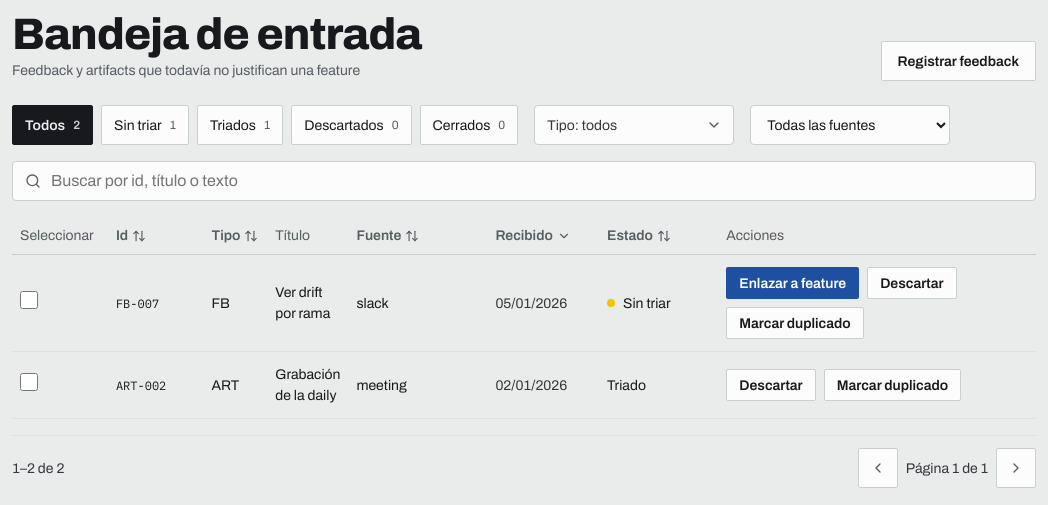
it: Entrada › searches id, título and body, accent-insensitively, and writes q to the URL
Expected: the text "FB-007" is shown, [116,296,159,310]
Step 1. Type "grabacion" into the search field named "Buscar en la bandeja" → {"x": 538, "y": 181}, box [49,168,1027,194]
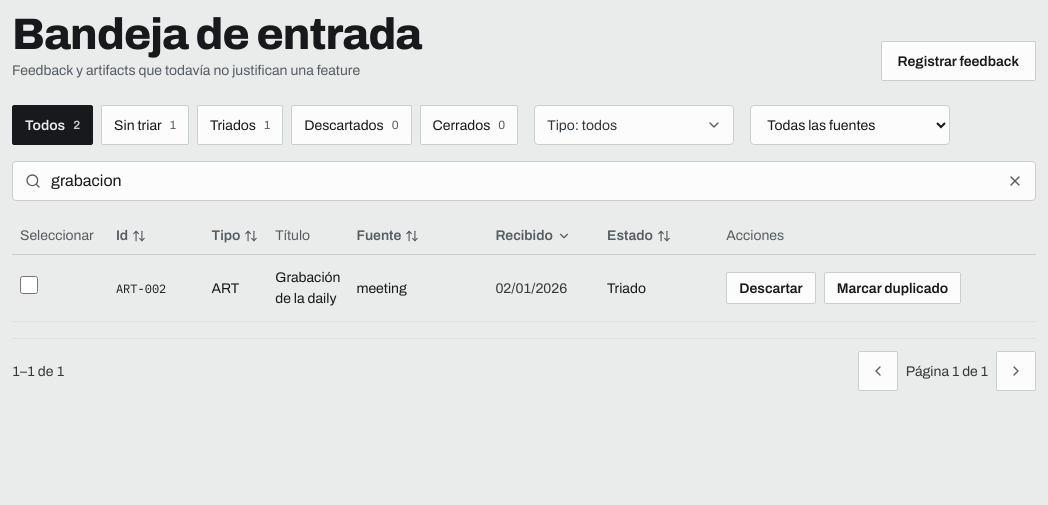
Expected: the text "ART-002" is shown, [116,280,166,296]
Result: the text "FB-007" is gone
